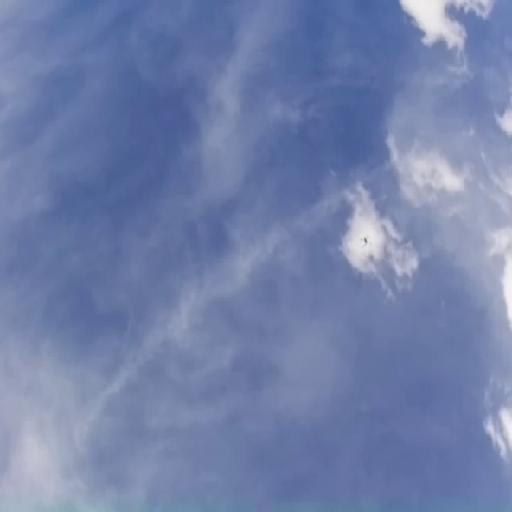drones: (358, 231, 374, 251)
